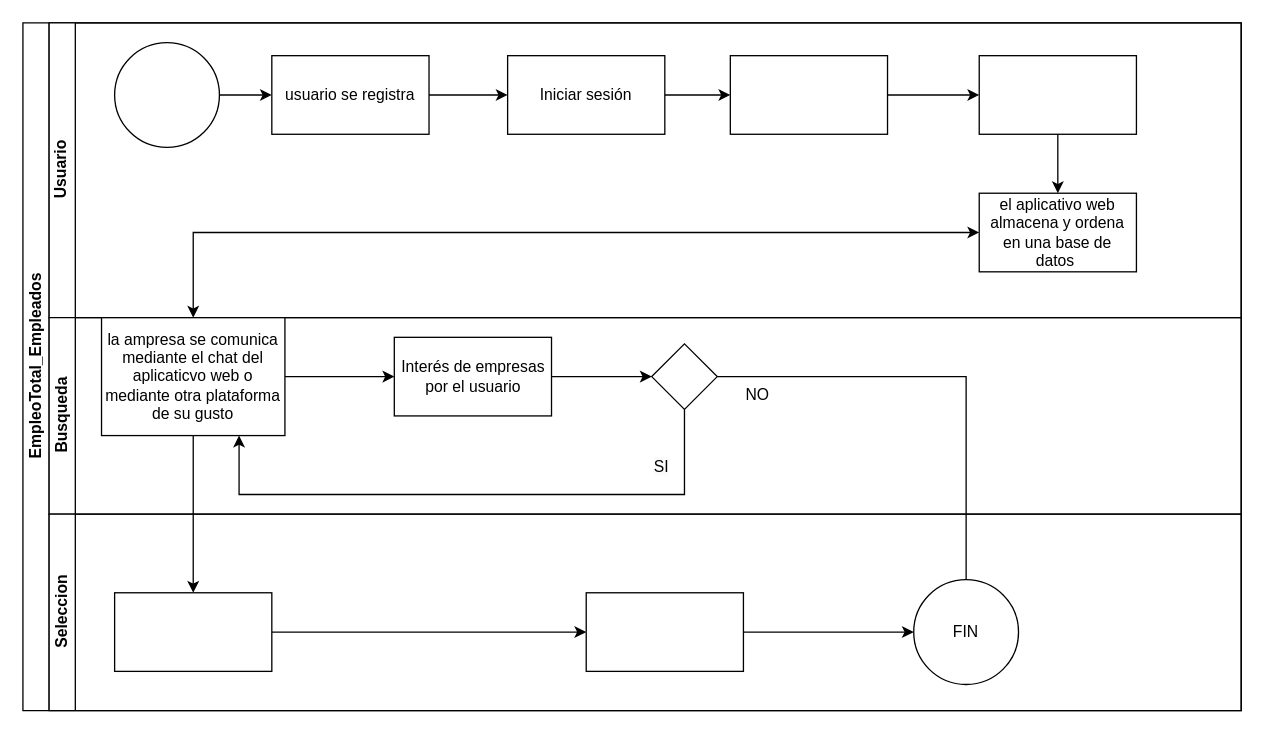
This 1264x734 diagram has some shape labels left out. Each missing label, with the centre of its shape:
"Esperar resultados" belongs at [664,631].
"Inicio" belongs at [166,94].
"llena formulario hoja de vida" belongs at [808,94].
"Postular hoja de vida a diferentes empresas" belongs at [1057,94].
"si la empresa lo requiere puede hacer entrevista virtual o presencial" belongs at [192,631].
